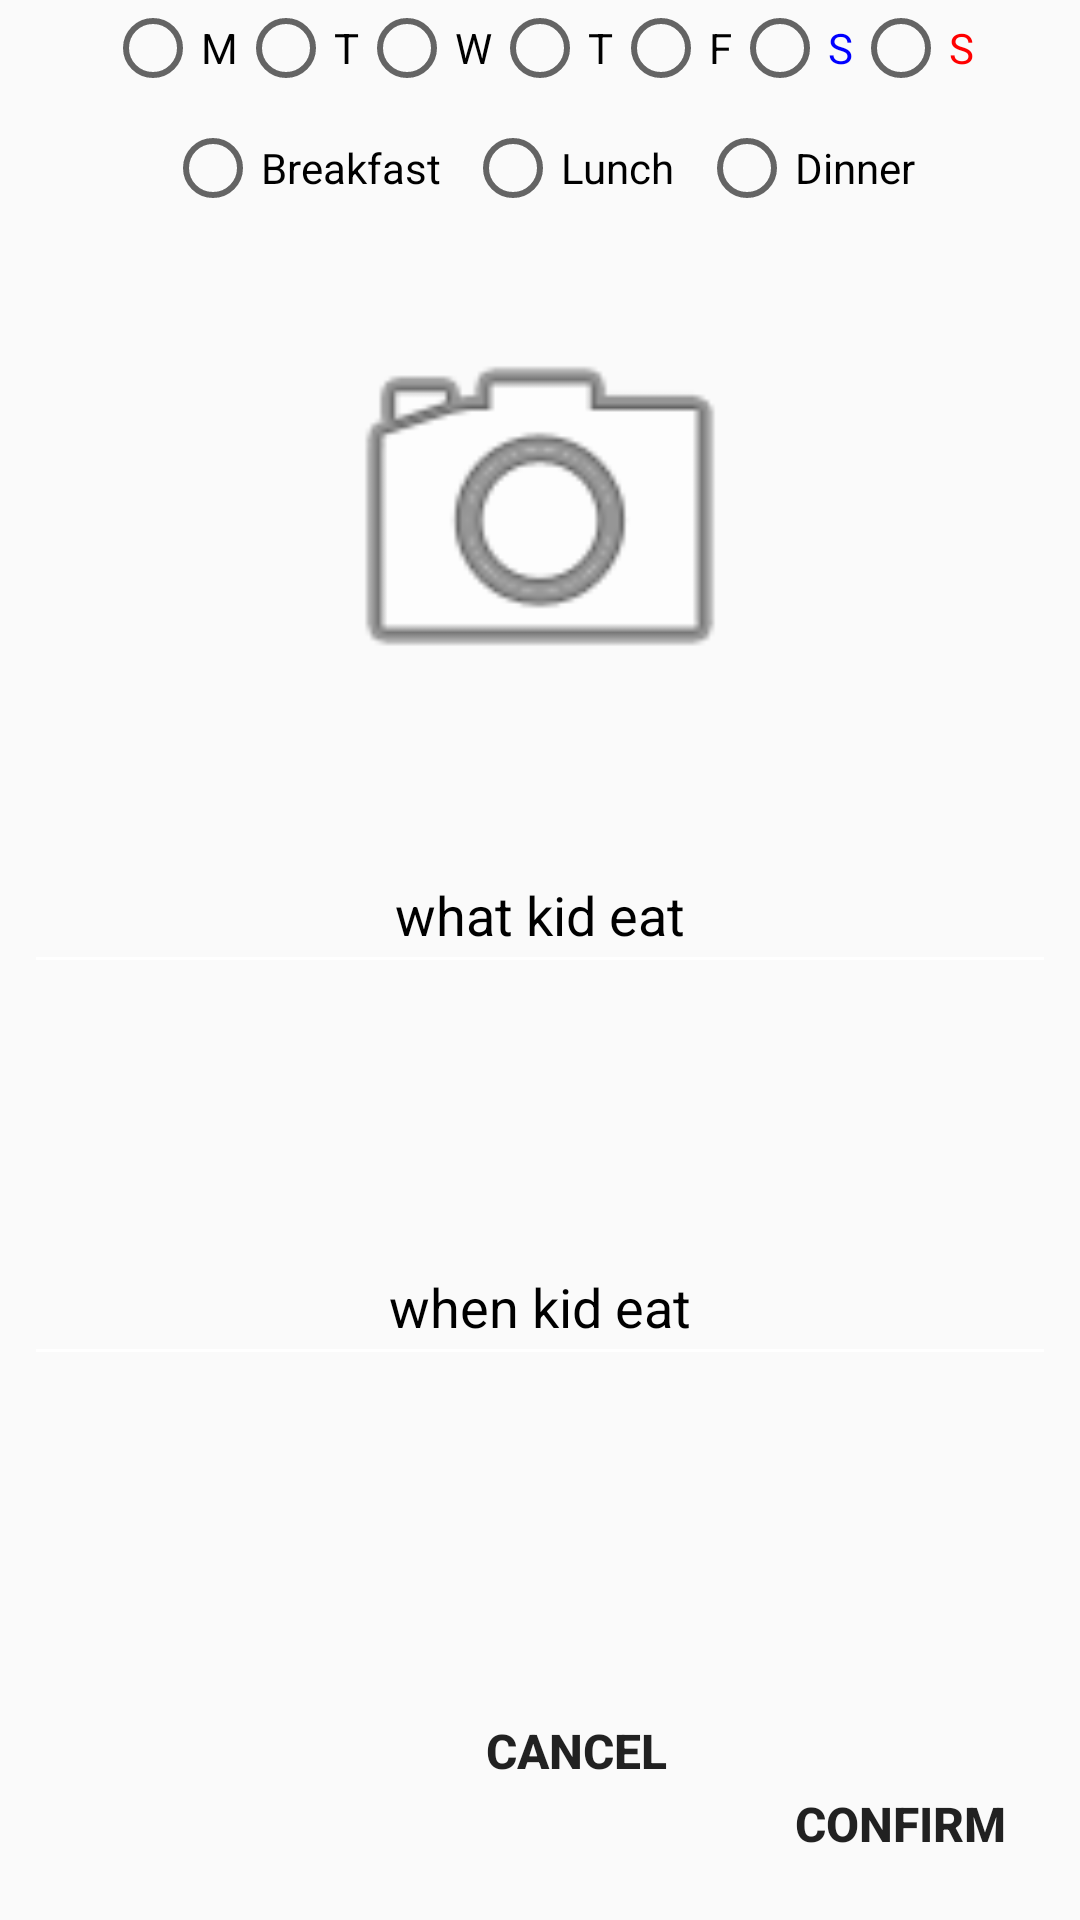

Where to tap for icons on this 1080 x 1920 app screen, as [x,y]:
camera: [540,506]
